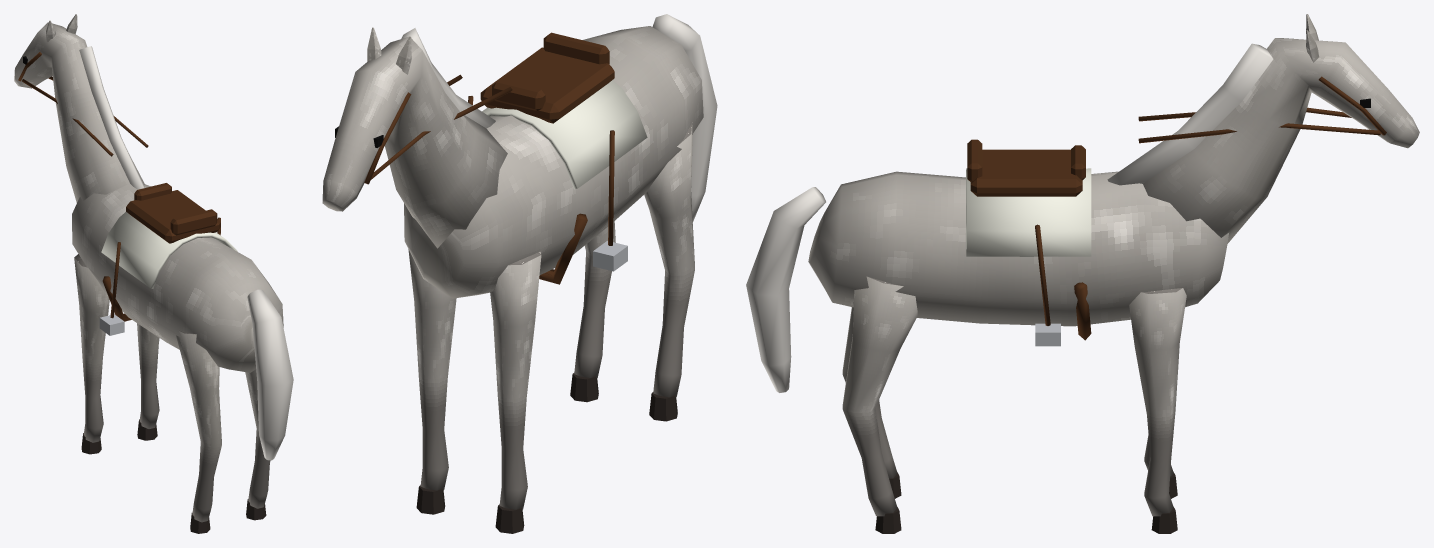
File: horse_grey.glb
3 views of the same model, side by side, from view 1: azimuth 30°, elevation 25°; view 2: azimuth 150°, elevation 25°; view 3: azimuth 270°, elevation 25° (orthographic). The views are drawn at different scales.
Parts seen in each view (by area): view 1: Body, Tack, Hair, Leg_HL, Leg_FL, Leg_FR, Leg_HR; view 2: Body, Tack, Leg_FL, Leg_HL, Leg_FR, Hair, Leg_HR; view 3: Body, Tack, Hair, Leg_HR, Leg_FR, Leg_HL.
Boxes of the visible parts, <box> form: Body: <box>14,14,283,372</box>; Tack: <box>18,52,237,335</box>; Hair: <box>79,46,293,460</box>; Leg_HL: <box>176,331,221,533</box>; Leg_FL: <box>74,254,109,454</box>; Leg_FR: <box>137,323,159,440</box>; Leg_HR: <box>245,369,270,520</box>; Body: <box>322,26,703,298</box>; Tack: <box>364,32,647,284</box>; Leg_FL: <box>490,251,541,533</box>; Leg_HL: <box>644,122,694,421</box>; Leg_FR: <box>408,249,456,514</box>; Hair: <box>401,14,717,222</box>; Leg_HR: <box>570,221,615,402</box>; Body: <box>808,14,1419,326</box>; Tack: <box>966,76,1386,346</box>; Hair: <box>746,43,1273,392</box>; Leg_HR: <box>842,276,917,533</box>; Leg_FR: <box>1129,288,1186,533</box>; Leg_HL: <box>842,307,901,498</box>.
Bounding box in the file's own units: 0.82 × 2.5 × 3.12.
Materials: 8 (2 with a texture image).
